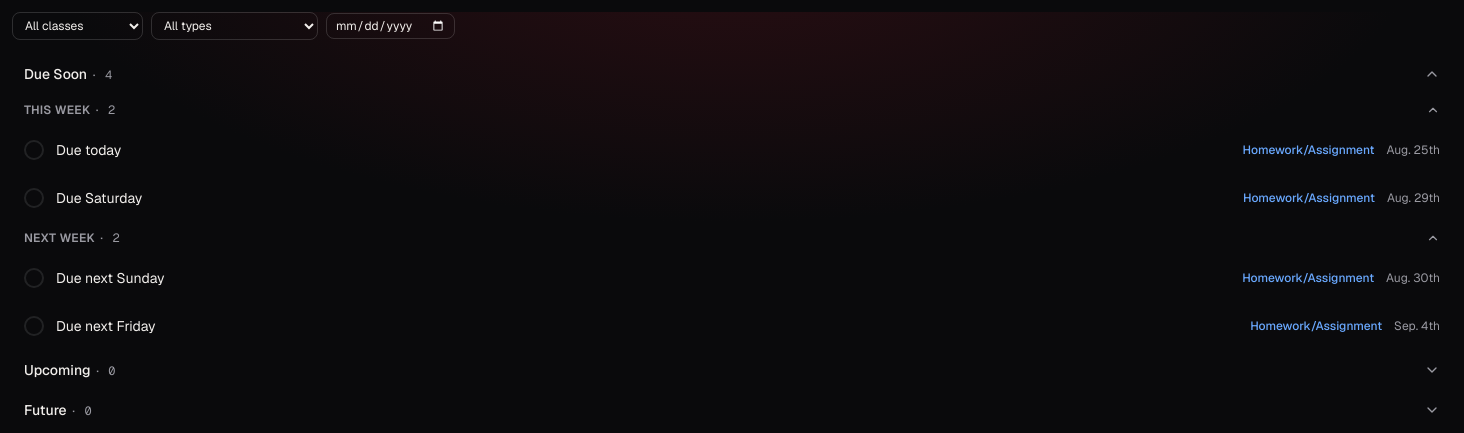
it: TaskListModule › Due Soon's This week / Next week split › puts this week's work under This week and next week's work under Next week, both under Due Soon
Check: the text "Due today" is shown, box [56,141,121,159]
Check: the text "Due Saturday" is shown, box [56,189,142,207]
Click the button "Next week · 2". click: (59, 238)
box: [12,224,1452,252]
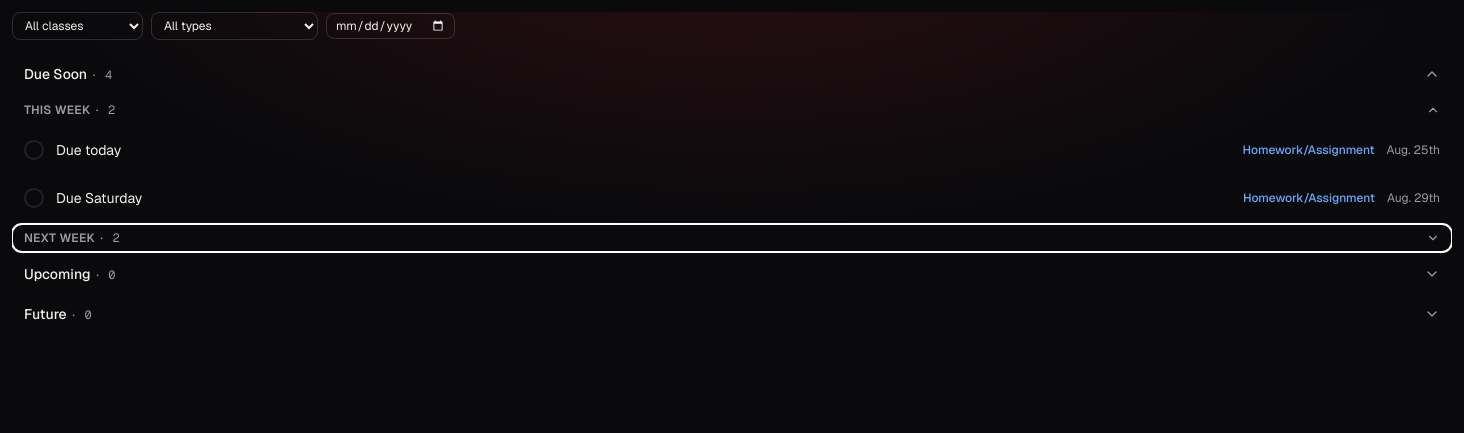
Check: the button "Due next Sunday" is gone
